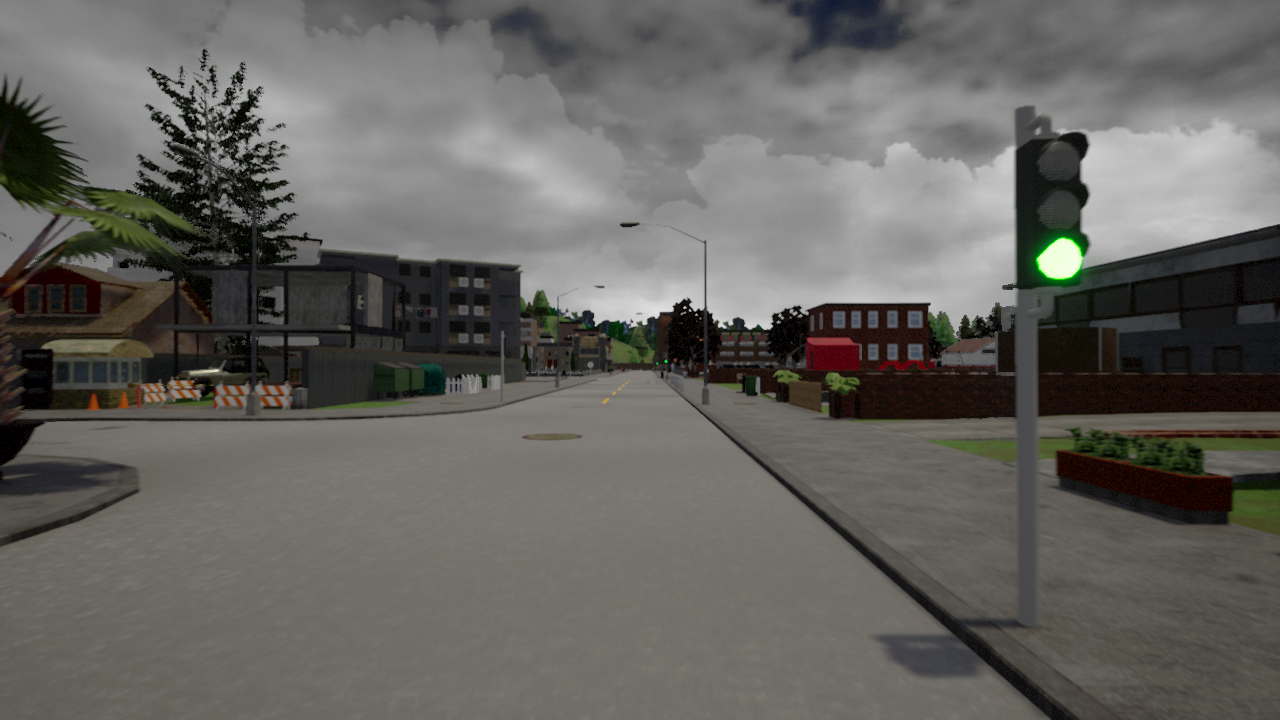green: (1021, 128, 1093, 290)
